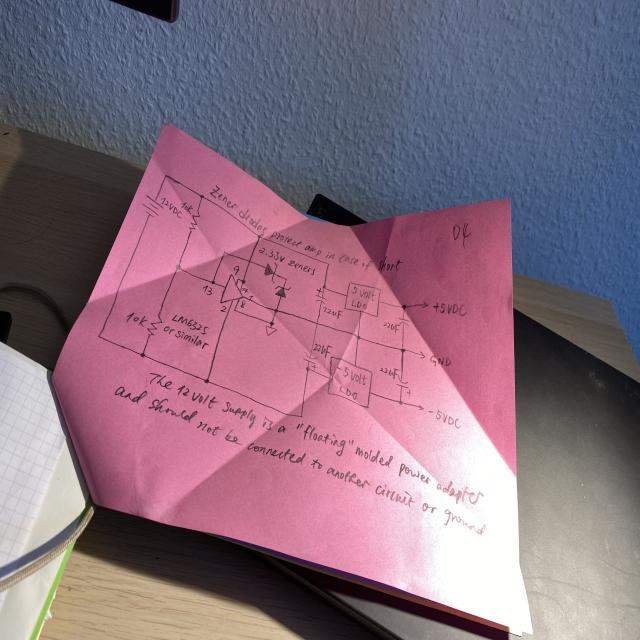capacitor: (396, 378, 411, 398), (302, 352, 316, 369), (314, 288, 327, 304), (398, 317, 410, 329)
crossover: (314, 319, 320, 326), (247, 258, 252, 264)
diode: (264, 262, 279, 282), (275, 283, 291, 301)
ground: (265, 326, 277, 336)
junction: (139, 350, 146, 360), (256, 232, 263, 242), (203, 376, 210, 386), (298, 412, 305, 421), (399, 346, 406, 354), (273, 306, 280, 314), (175, 263, 182, 271), (163, 171, 169, 180), (97, 331, 103, 340), (401, 303, 407, 311), (199, 193, 205, 201), (222, 250, 228, 258), (210, 278, 216, 286), (356, 333, 361, 341), (398, 399, 403, 405), (325, 262, 330, 268), (284, 276, 289, 282), (322, 284, 327, 290), (269, 321, 274, 326), (306, 366, 310, 371), (242, 278, 245, 284), (233, 309, 237, 313), (237, 276, 239, 280)
resistor: (145, 312, 162, 338), (188, 211, 200, 234)
source: (142, 194, 161, 220)
terminal: (419, 350, 426, 360), (422, 301, 428, 309), (418, 404, 424, 411)
text: (114, 385, 487, 538), (148, 371, 485, 506), (210, 185, 404, 274), (161, 326, 209, 348), (428, 408, 461, 431), (171, 314, 208, 334), (336, 364, 367, 386), (432, 301, 467, 317), (258, 245, 287, 262), (160, 195, 180, 219), (288, 259, 316, 276), (125, 311, 149, 328), (352, 286, 375, 302), (322, 305, 343, 320), (430, 354, 452, 368), (339, 384, 358, 400), (312, 342, 331, 357), (379, 366, 399, 380), (384, 320, 401, 333), (350, 299, 368, 310), (181, 200, 193, 215), (202, 284, 213, 296), (232, 265, 240, 275), (220, 305, 228, 314), (240, 300, 245, 308), (248, 294, 254, 300), (242, 286, 248, 292)
